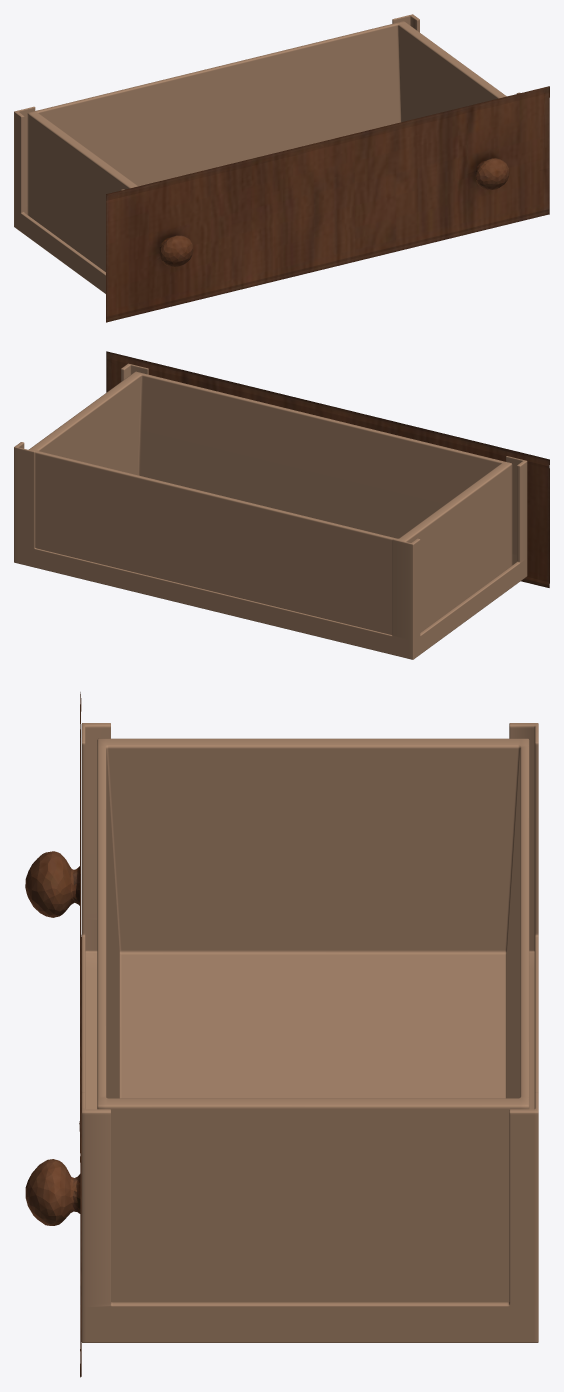
The model's file is drawer_2.glb.
3 renders of one model, top to bottom at view 1: azimuth 30°, elevation 25°; view 2: azimuth 150°, elevation 25°; view 3: azimuth 270°, elevation 25°, orthographic. The views are drawn at different scales.
Visible parts, largest first — view 1: source_front_cap_0, prefab_drawer_body_2; view 2: prefab_drawer_body_2, source_front_cap_0; view 3: prefab_drawer_body_2, source_front_cap_0.
Part boxes in pixels (x1,y1,x2,y2): source_front_cap_0: [106, 86, 549, 322]; prefab_drawer_body_2: [14, 14, 520, 293]; prefab_drawer_body_2: [14, 363, 527, 659]; source_front_cap_0: [106, 351, 549, 587]; prefab_drawer_body_2: [81, 723, 538, 1342]; source_front_cap_0: [25, 692, 81, 1377].
Bounding box in the file's own units: 0.8147 × 0.2256 × 0.4083.
2 materials, 1 textured.
